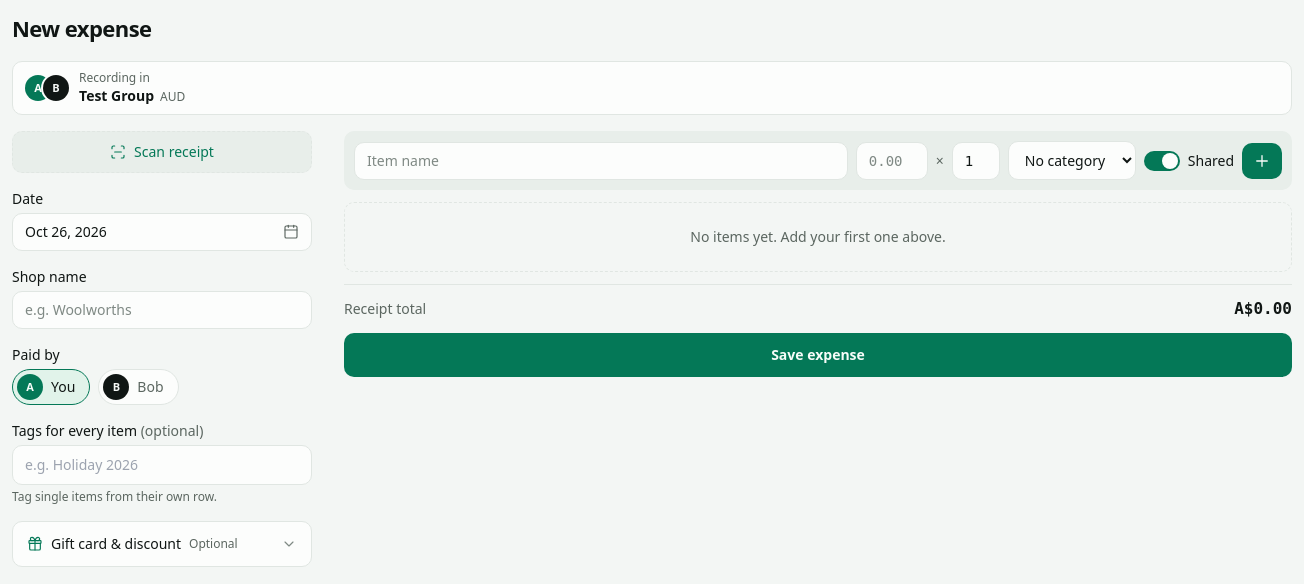
Test case: ExpenseEditor › displays an updated running total as items are added via quick-add
In the dropdown with placeholder "Item name": (601, 160) [354,142,848,180], type "Milk"
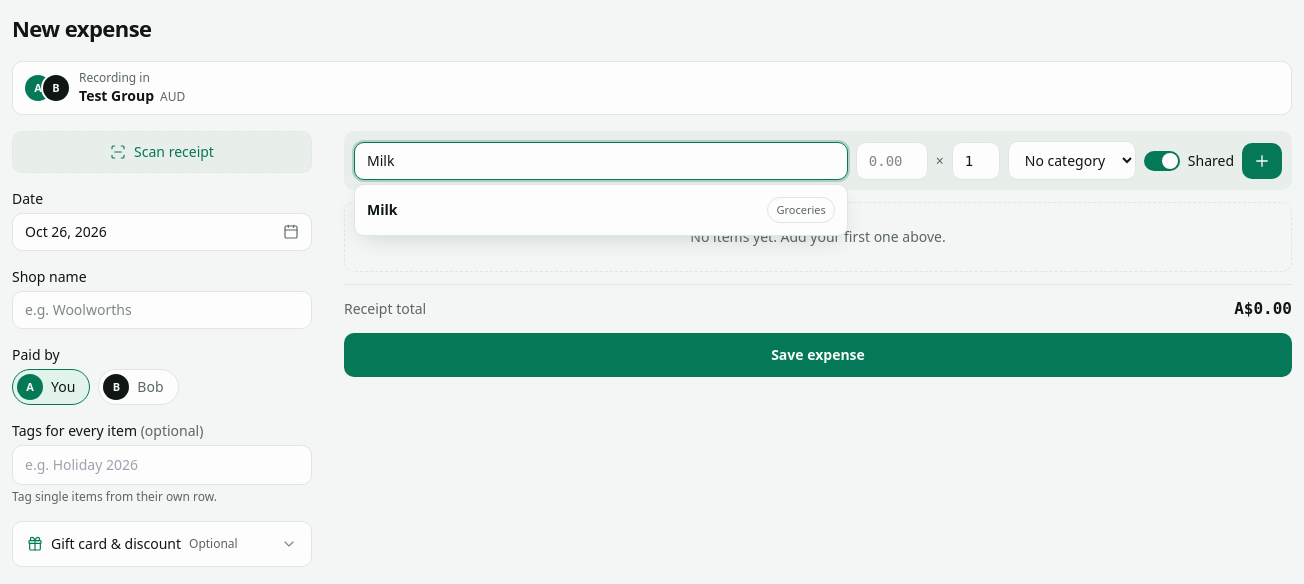
In the field named "unit price": (892, 160) [856,142,928,180], type "10.50"
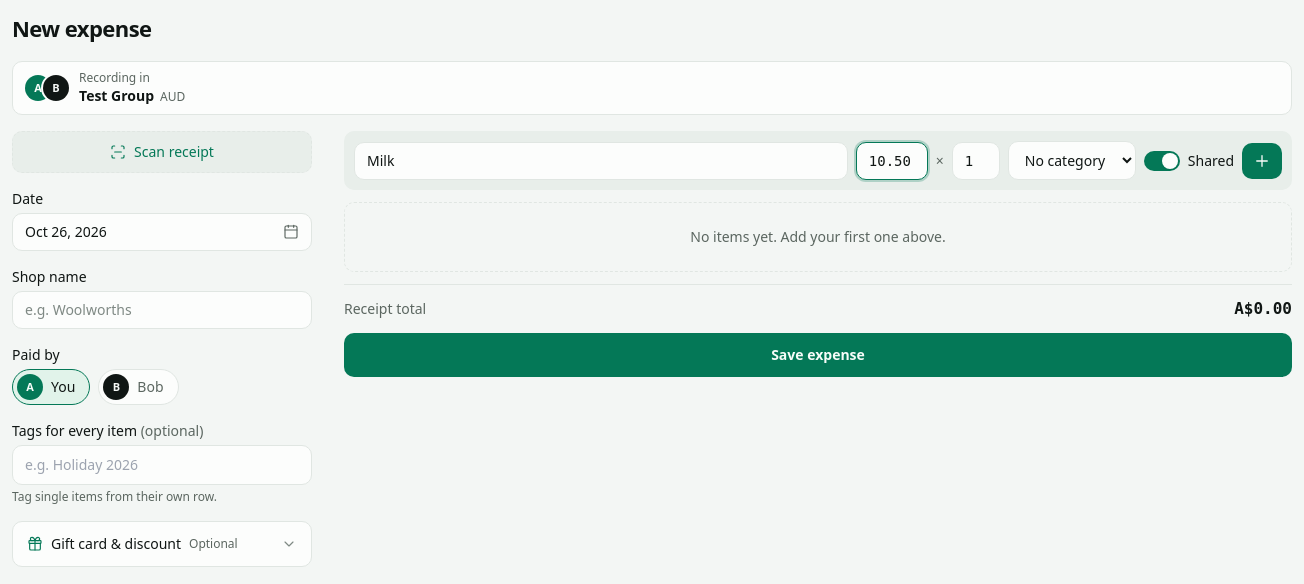
Click the button named "add item": (1262, 160) [1242,142,1282,178]
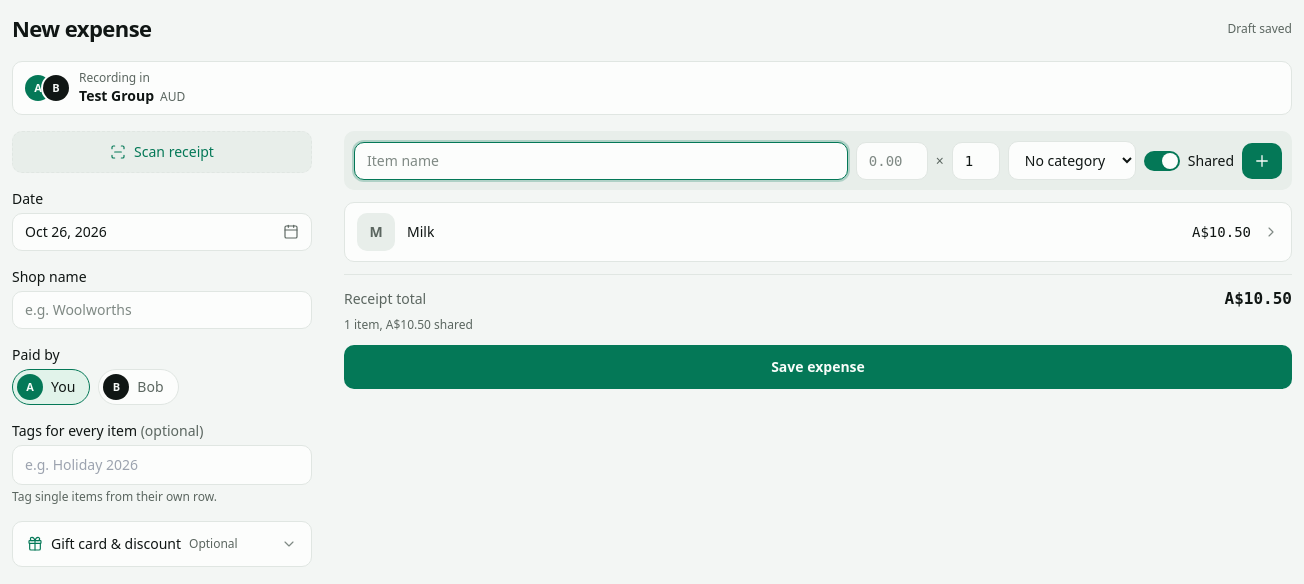
Expected: the text "Receipt total A$10.50" is shown, [344,287,1292,311]
In the dropdown with placeholder "Item name": (601, 160) [354,142,848,180], type "Bread"
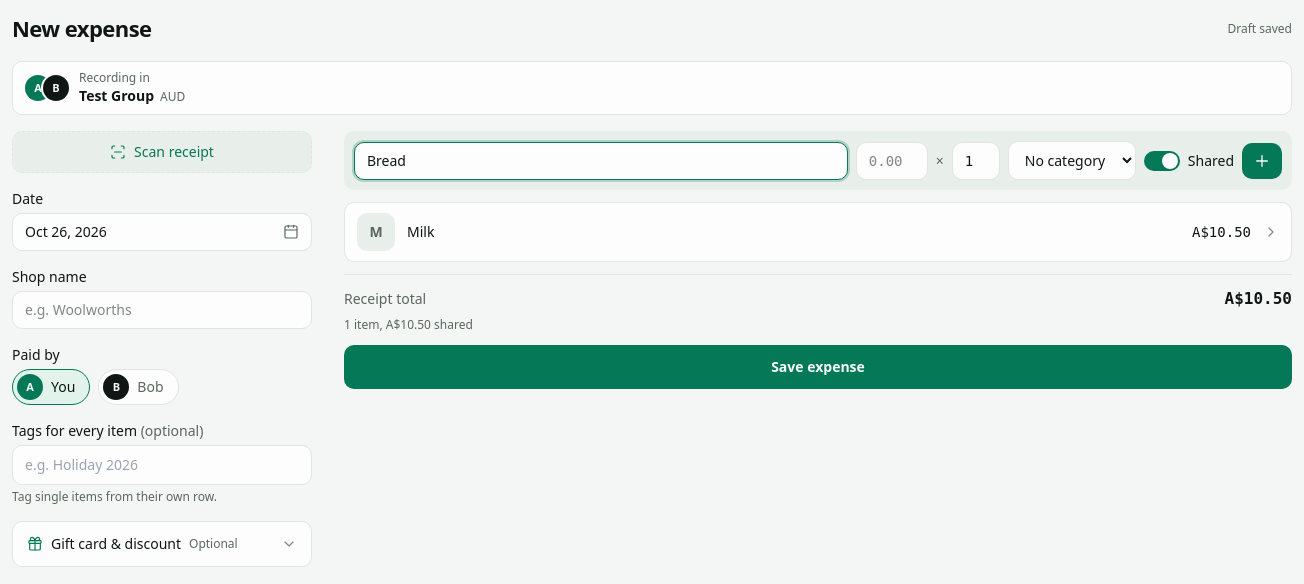
In the field named "unit price": (892, 160) [856,142,928,180], type "5.00"
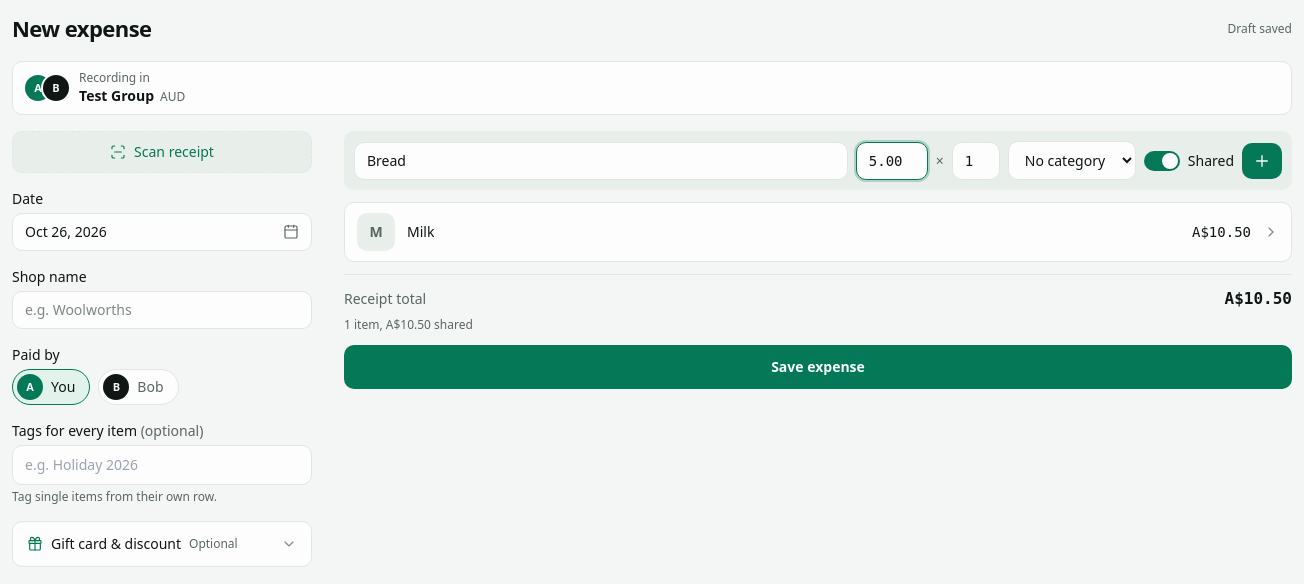
Click the button named "add item": (1262, 160) [1242,142,1282,178]
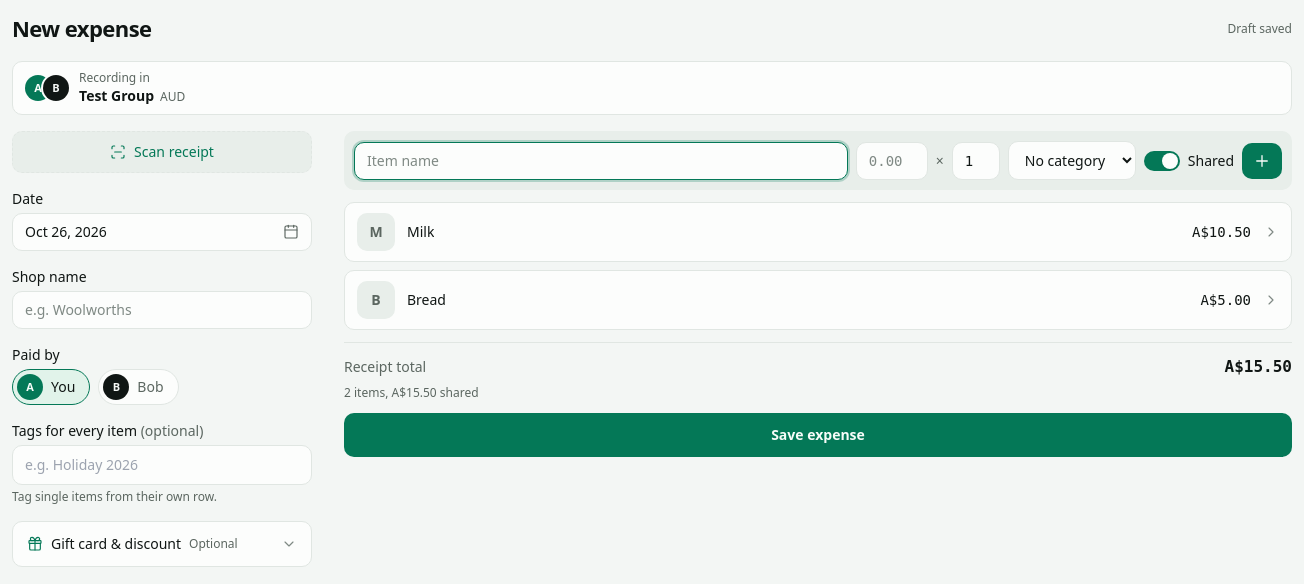
Expected: the text "Receipt total A$15.50" is shown, [344,355,1292,379]
